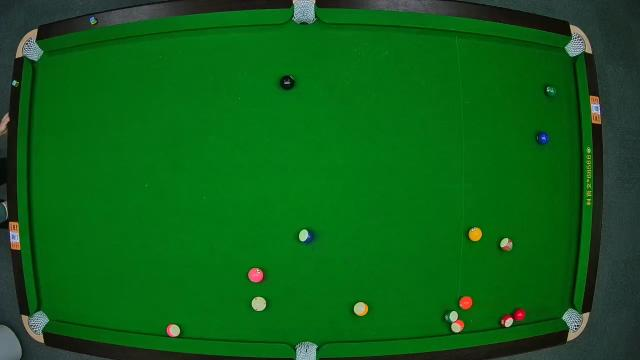bag1: (23, 40, 43, 60)
bag2: (292, 1, 316, 24)
bag3: (566, 34, 584, 57)
bag4: (29, 309, 47, 335)
bag5: (292, 342, 320, 360)
bag6: (562, 309, 584, 333)
ball0: (250, 296, 268, 312)
ball1: (467, 226, 483, 242)
ball10: (298, 228, 314, 244)
ball11: (500, 314, 514, 329)
ball12: (164, 322, 182, 338)
ball13: (452, 320, 466, 332)
ball14: (443, 310, 459, 324)
ball15: (500, 236, 514, 254)
ball2: (536, 131, 552, 146)
ball3: (514, 307, 526, 323)
ball4: (248, 266, 264, 282)
ball5: (458, 294, 474, 310)
ball6: (544, 84, 558, 98)
ball8: (280, 75, 296, 89)
ball9: (354, 301, 371, 317)
